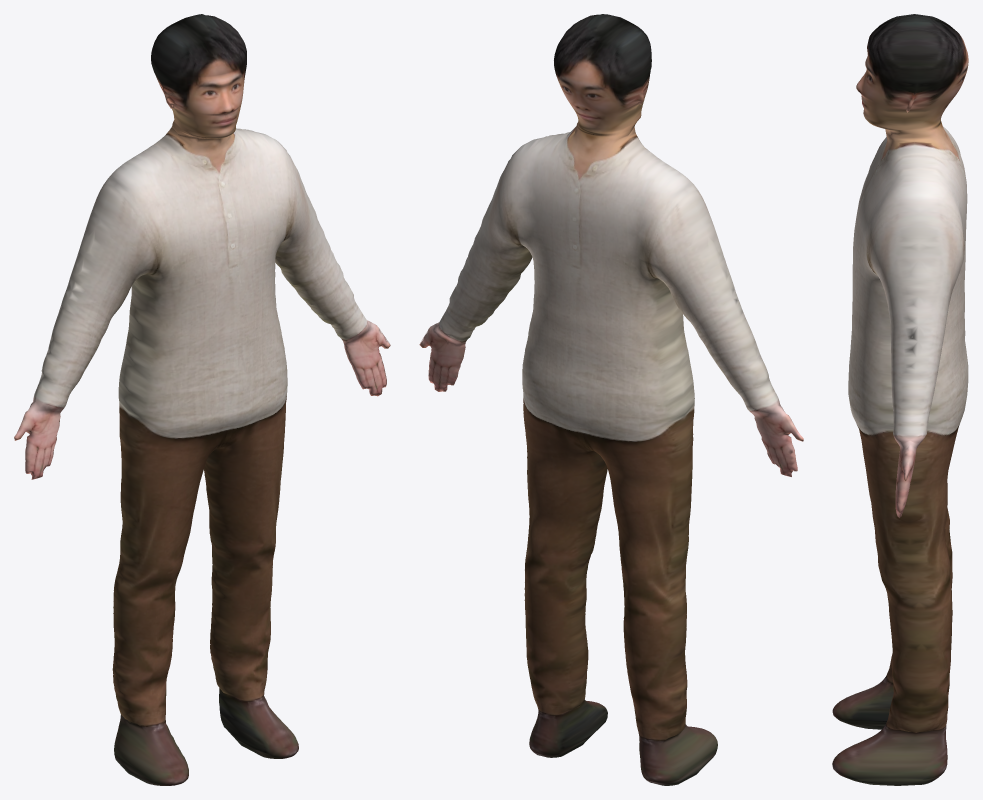
File: villager_a.glb
3 views of the same model, side by side, from view 1: azimuth 30°, elevation 25°; view 2: azimuth 150°, elevation 25°; view 3: azimuth 270°, elevation 25° (orthographic).
Visible parts, largest first — view 1: villager_a; view 2: villager_a; view 3: villager_a.
Part boxes in pixels (box(x1,y1,x2,y2)): villager_a: box(14, 14, 390, 785); villager_a: box(419, 14, 803, 785); villager_a: box(832, 14, 968, 785).
Size of the model in its own units: 0.9262 by 1.72 by 0.2867.
Materials: 1 (1 with a texture image).
